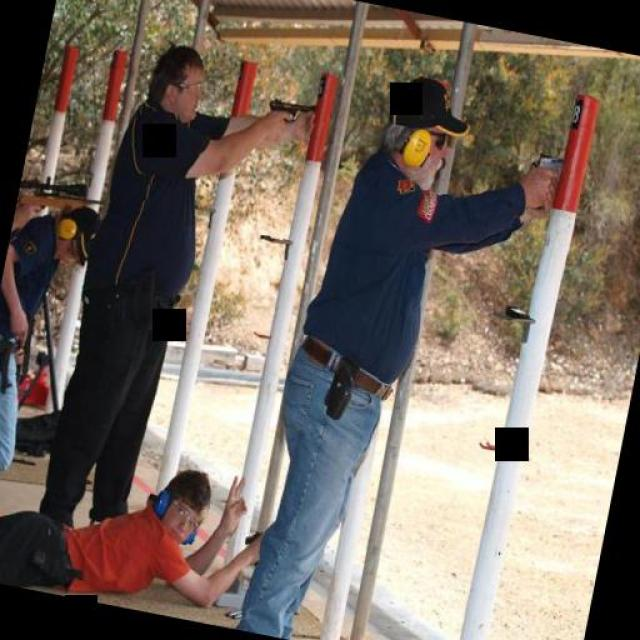gun: (262, 90, 328, 130), (521, 148, 564, 188)
